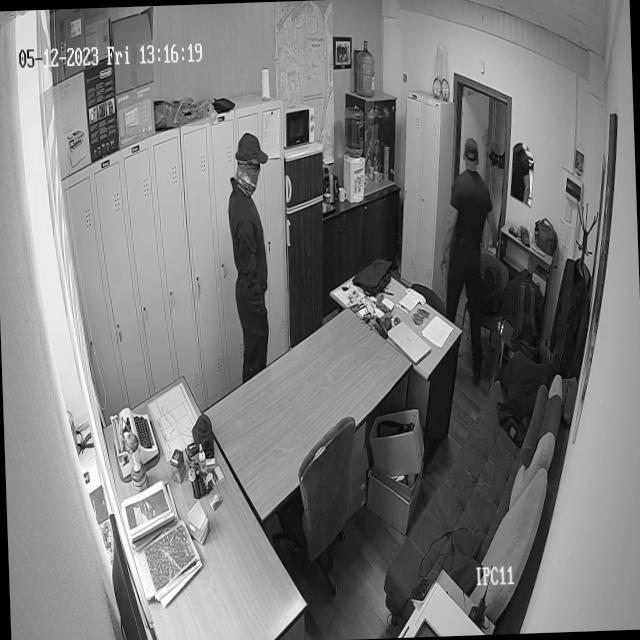gun: (506, 222, 518, 238)
person: (437, 139, 502, 364), (229, 134, 269, 380), (452, 112, 458, 114)
